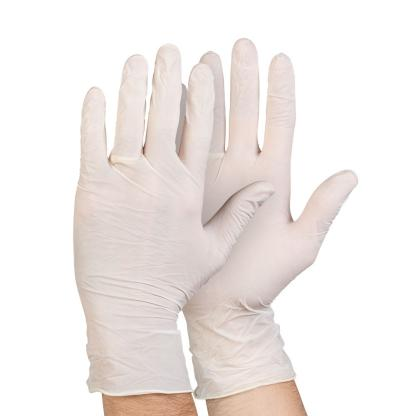with_gloves: (73, 58, 274, 408), (182, 40, 360, 393)
